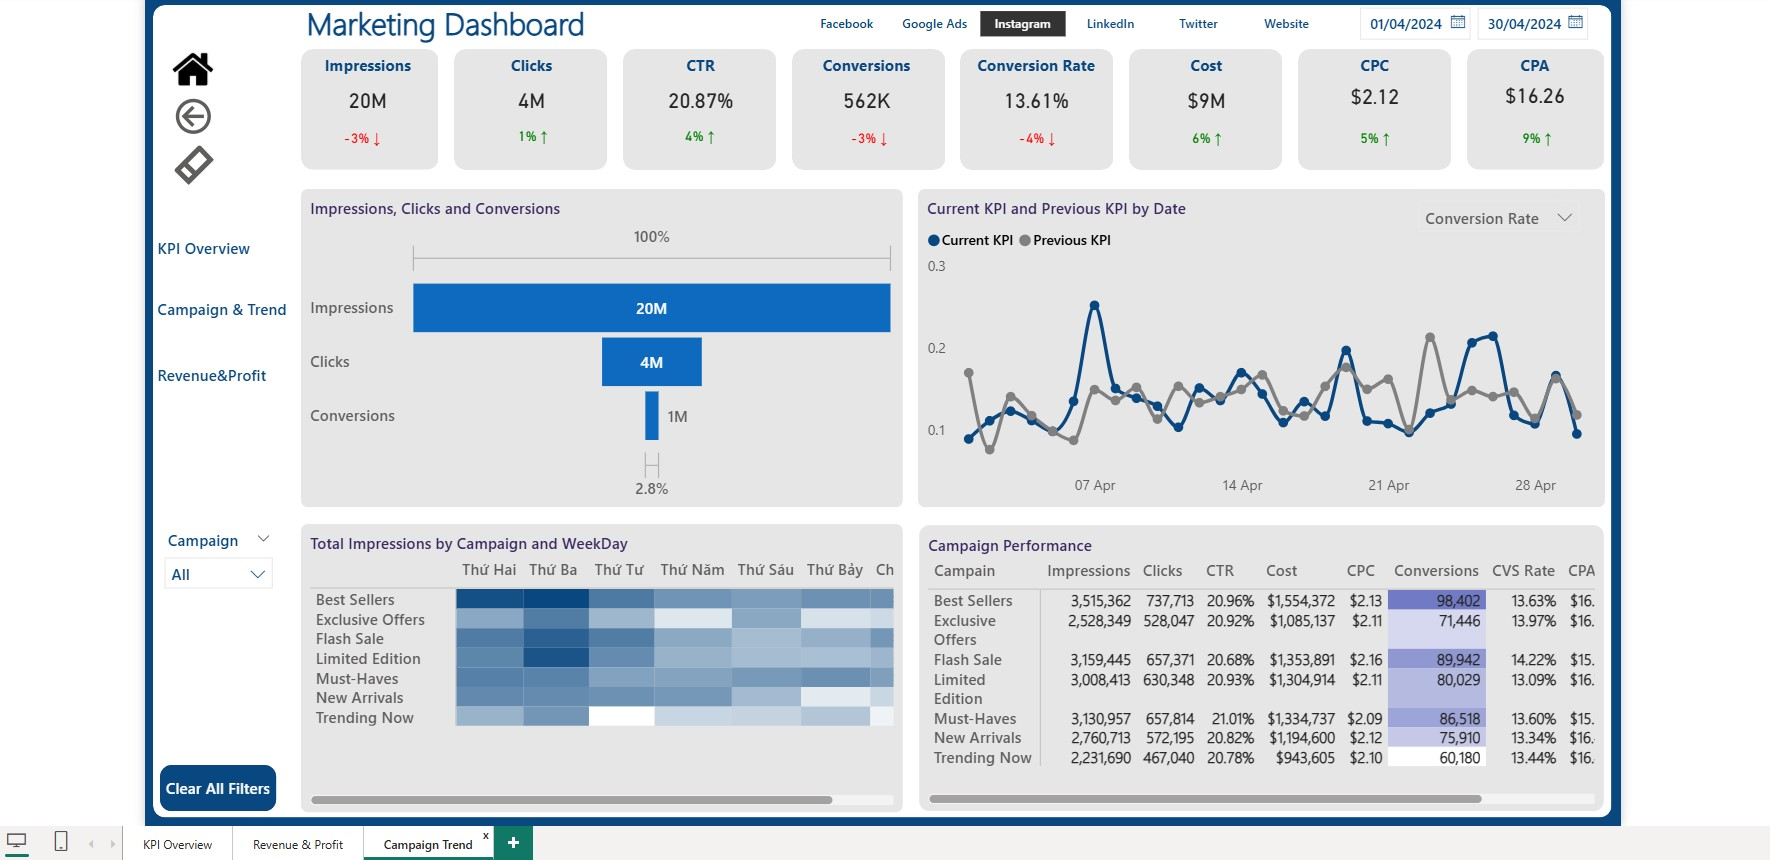

This screenshot's page, from the dashboard's own definition file:
{"tool":"powerbi","page":{"name":"Campaign Trend","canvas":[1280,720],"ordinal":2},"visuals":[{"type":"shape","box":[6.8,7.9,1265.4,704.7],"z":0},{"type":"shape","box":[268,45.6,133.1,104.9],"z":1000},{"type":"shape","box":[135.1,46.2,119.3,104.7],"z":2000},{"type":"shape","box":[414.7,45.6,133.1,104.9],"z":3000},{"type":"shape","box":[561.3,45.6,133.1,104.9],"z":4000},{"type":"shape","box":[707,45.6,133.1,104.9],"z":5000},{"type":"shape","box":[853.7,45.6,133.1,104.9],"z":6000},{"type":"shape","box":[1000.3,45.6,133.1,104.9],"z":7000},{"type":"shape","box":[1147.2,46.2,119.3,104.7],"z":8000},{"type":"card","fields":{"Values":["Sum(media_all_channels.impressions)"]},"box":[135.1,46.2,116,67.5],"z":9000},{"type":"card","fields":{"Values":["Sum(media_all_channels.clicks)"]},"box":[272.9,45.6,124.3,68],"z":10000},{"type":"card","fields":{"Values":["Avg(media_all_channels.ctr)"]},"box":[418.6,45.6,126.3,68],"z":11000},{"type":"card","fields":{"Values":["Sum(media_all_channels.conversions)"]},"box":[561.3,45.6,129.2,68],"z":12000},{"type":"card","fields":{"Values":["Avg(media_all_channels.conversion_rate)"]},"box":[709.9,45.6,127.2,68],"z":13000},{"type":"card","fields":{"Values":["Sum(media_all_channels.cost)"]},"box":[868.2,45.6,104.9,68],"z":14000},{"type":"card","fields":{"Values":["Avg(media_all_channels.cpc)"]},"box":[1004.6,45.9,124.7,60.9],"z":15000},{"type":"card","fields":{"Values":["Avg(media_all_channels.cpa)"]},"box":[1146.3,45.9,119.7,59.9],"z":16000},{"type":"funnel","fields":{"Y":["Sum(media_all_channels.impressions)","Sum(media_all_channels.clicks)","Sum(media_all_channels.conversions)"]},"box":[135.1,167.7,522.4,275.8],"z":17000},{"type":"lineChart","fields":{"Category":["Calendar.Date"],"Y":["_Measures_new.Selected KPI Campaign Trend","_Measures_new.Previous KPI Campain Trend"]},"box":[671,167.7,595.5,275.8],"z":18000},{"type":"slicer","fields":{"Values":["Calendar.Date"]},"box":[1041.1,0,238.9,38.8],"z":19000},{"type":"slicer","fields":{"Values":["KPI Campaign Trend.KPI"]},"box":[1094.4,167.6,159.6,39.9],"z":20000},{"type":"pivotTable","fields":{"Columns":["Calendar.Weekday Name"],"Rows":["media_all_channels.campaign"],"Values":["Sum(media_all_channels.impressions)"]},"box":[135.1,458.2,522.4,249.9],"z":21000},{"type":"pivotTable","fields":{"Rows":["media_all_channels.campaign"],"Values":["Sum(media_all_channels.impressions)","Sum(media_all_channels.clicks)","Avg(media_all_channels.ctr)","Sum(media_all_channels.cost)","Avg(media_all_channels.cpc)","Sum(media_all_channels.conversions)","Avg(media_all_channels.conversion_rate)","Avg(media_all_channels.cpa)","Sum(media_all_channels.revenue)"]},"box":[671,458.2,595.5,249.9],"z":22000},{"type":"card","fields":{"Values":["_Measures.MoM change of impressions"]},"box":[135,100,105.9,50.5],"z":23000},{"type":"card","fields":{"Values":["_Measures.MoM change of clicks"]},"box":[283.6,98.1,105.9,50.5],"z":24000},{"type":"card","fields":{"Values":["_Measures.MoM change of ctr"]},"box":[428.3,98.1,105.9,50.5],"z":25000},{"type":"card","fields":{"Values":["_Measures.MoM change of conversions"]},"box":[574.9,100,105.9,50.5],"z":26000},{"type":"card","fields":{"Values":["_Measures.MoM change of conversion_rate"]},"box":[720.6,100,105.9,50.5],"z":27000},{"type":"card","fields":{"Values":["_Measures.MoM change of cost"]},"box":[868.2,100,105.9,50.5],"z":28000},{"type":"card","fields":{"Values":["_Measures.MoM change of cpc"]},"box":[1013.9,100,105.9,50.5],"z":29000},{"type":"card","fields":{"Values":["_Measures.MoM change of cpa"]},"box":[1160.3,99.8,93.8,50.9],"z":30000},{"type":"slicer","fields":{"Values":["media_all_channels.campaign"]},"box":[7,457.9,113.7,62.9],"z":31000},{"type":"slicer","fields":{"Values":["media_all_channels.channel"]},"box":[545.7,6,505.8,35.9],"z":32000},{"type":"actionButton","box":[13,667.4,100.8,39.9],"z":33000},{"type":"actionButton","box":[6.8,195.9,100.2,45],"z":34000},{"type":"actionButton","box":[6.8,248.8,130.6,45],"z":35000},{"type":"actionButton","box":[6.8,306.2,130.6,45],"z":36000},{"type":"textbox","box":[135.1,0,342.2,48.4],"z":37000},{"type":"actionButton","box":[21.4,84.4,100.2,40.5],"z":37001},{"type":"actionButton","box":[21.4,126.1,59.7,41.7],"z":37002},{"type":"image","box":[19.1,39.4,45,48.4],"z":37003}]}

Visuals, with their boxes on the page's 1280x720 design canvas (x1, y1, x2, y2). These are canvas units, not pixel positions in the 1770x860 screenshot, which may show the page scaled, cropped or inside an application window:
shape: (7, 8, 1272, 713)
shape: (268, 46, 401, 150)
shape: (135, 46, 254, 151)
shape: (415, 46, 548, 150)
shape: (561, 46, 694, 150)
shape: (707, 46, 840, 150)
shape: (854, 46, 987, 150)
shape: (1000, 46, 1133, 150)
shape: (1147, 46, 1266, 151)
card - Sum(media_all_channels.impressions): (135, 46, 251, 114)
card - Sum(media_all_channels.clicks): (273, 46, 397, 114)
card - Avg(media_all_channels.ctr): (419, 46, 545, 114)
card - Sum(media_all_channels.conversions): (561, 46, 690, 114)
card - Avg(media_all_channels.conversion_rate): (710, 46, 837, 114)
card - Sum(media_all_channels.cost): (868, 46, 973, 114)
card - Avg(media_all_channels.cpc): (1005, 46, 1129, 107)
card - Avg(media_all_channels.cpa): (1146, 46, 1266, 106)
funnel - Sum(media_all_channels.impressions) x Sum(media_all_channels.clicks): (135, 168, 658, 444)
lineChart - Calendar.Date x _Measures_new.Selected KPI Campaign Trend: (671, 168, 1266, 444)
slicer - Calendar.Date: (1041, 0, 1280, 39)
slicer - KPI Campaign Trend.KPI: (1094, 168, 1254, 208)
pivotTable - Calendar.Weekday Name x media_all_channels.campaign: (135, 458, 658, 708)
pivotTable - media_all_channels.campaign x Sum(media_all_channels.impressions): (671, 458, 1266, 708)
card - _Measures.MoM change of impressions: (135, 100, 241, 150)
card - _Measures.MoM change of clicks: (284, 98, 390, 149)
card - _Measures.MoM change of ctr: (428, 98, 534, 149)
card - _Measures.MoM change of conversions: (575, 100, 681, 150)
card - _Measures.MoM change of conversion_rate: (721, 100, 826, 150)
card - _Measures.MoM change of cost: (868, 100, 974, 150)
card - _Measures.MoM change of cpc: (1014, 100, 1120, 150)
card - _Measures.MoM change of cpa: (1160, 100, 1254, 151)
slicer - media_all_channels.campaign: (7, 458, 121, 521)
slicer - media_all_channels.channel: (546, 6, 1052, 42)
actionButton: (13, 667, 114, 707)
actionButton: (7, 196, 107, 241)
actionButton: (7, 249, 137, 294)
actionButton: (7, 306, 137, 351)
textbox: (135, 0, 477, 48)
actionButton: (21, 84, 122, 125)
actionButton: (21, 126, 81, 168)
image: (19, 39, 64, 88)
